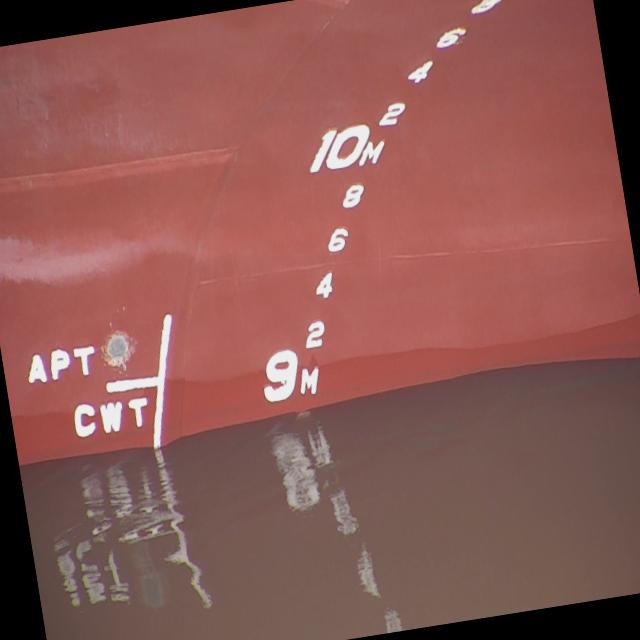Ship Draft Marks: (322, 124, 376, 172), (258, 348, 304, 403), (304, 128, 344, 173), (376, 100, 410, 128), (434, 26, 469, 52), (356, 138, 388, 166), (298, 364, 324, 398), (324, 226, 352, 254), (340, 182, 368, 210), (302, 320, 328, 350), (406, 60, 436, 86), (314, 271, 336, 301), (469, 0, 505, 16)
